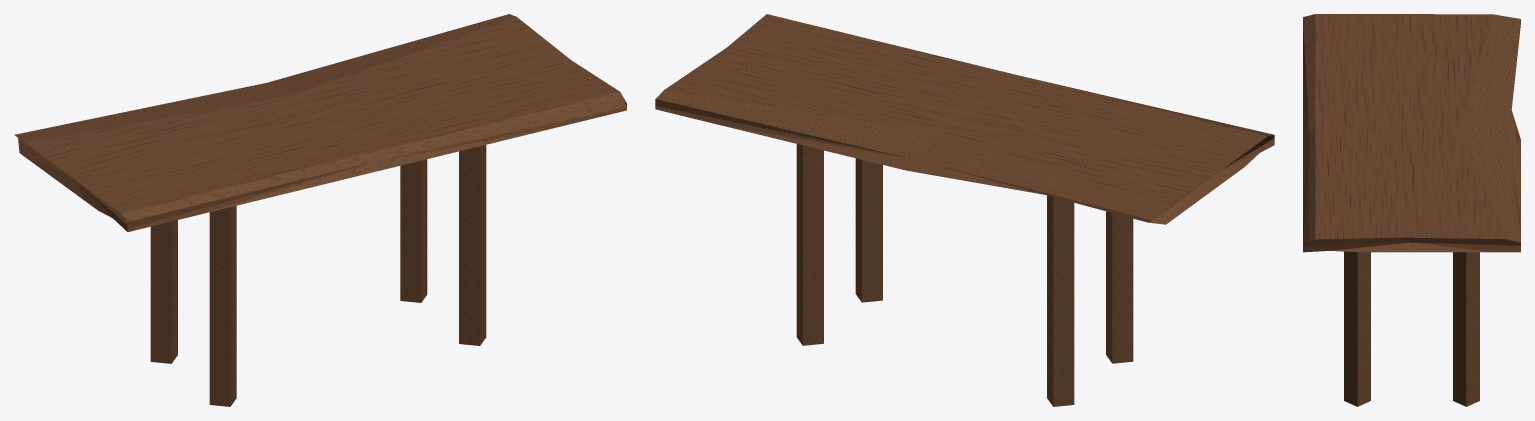
File: Table.fbx
3 views of the same model, side by side, from view 1: azimuth 30°, elevation 25°; view 2: azimuth 150°, elevation 25°; view 3: azimuth 270°, elevation 25° (orthographic). The views are drawn at different scales.
Parts seen in each view (by area): view 1: pCube3; view 2: pCube3; view 3: pCube3.
Part boxes in pixels (x1,y1,x2,y2): pCube3: (14, 14, 626, 406); pCube3: (655, 14, 1274, 406); pCube3: (1303, 14, 1520, 406).
Bounding box in the file's own units: 96.24 × 43.3 × 39.28.
1 material, 1 textured.
